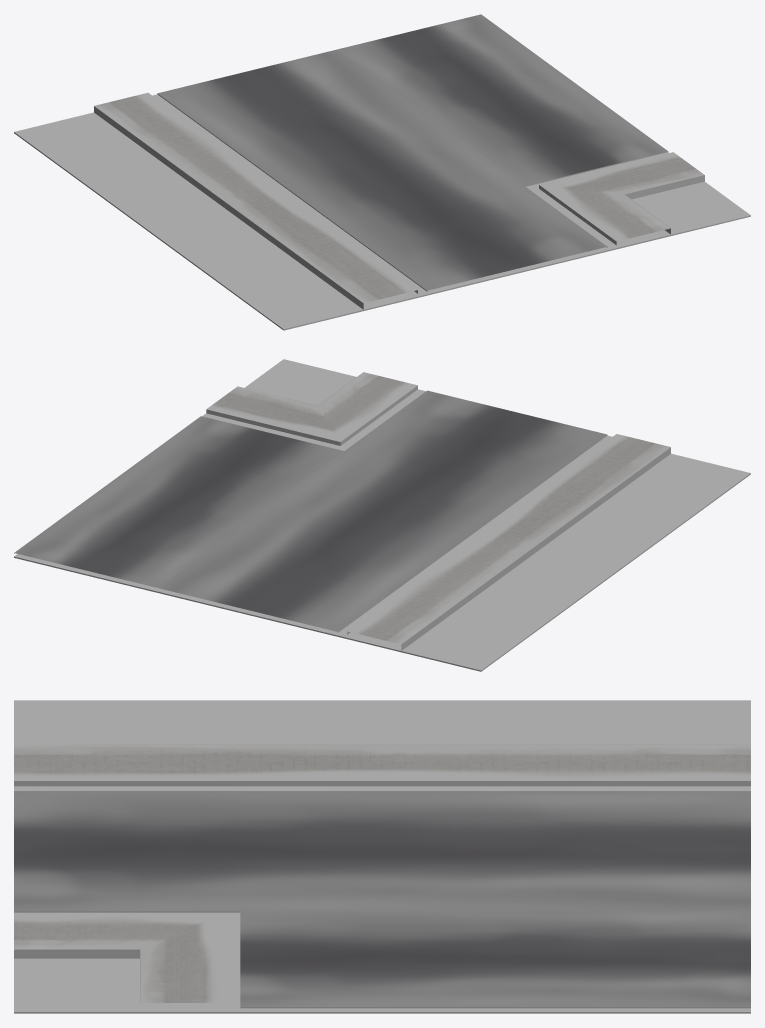
File: Single_Entry_CarPark.fbx
The picture shows the model from 3 angles, top to bottom: view 1: azimuth 30°, elevation 25°; view 2: azimuth 150°, elevation 25°; view 3: azimuth 270°, elevation 25°; orthographic projection. The views are drawn at different scales.
Visible parts, largest first — view 1: Road_10X48, Road_10X44; view 2: Road_10X48, Road_10X44; view 3: Road_10X48, Road_10X44.
Boxes of the visible parts, x1,y1,x2,y2 form: Road_10X48: (94,14,704,309); Road_10X44: (14,112,750,330); Road_10X48: (14,372,670,650); Road_10X44: (14,359,750,671); Road_10X48: (14,744,750,1008); Road_10X44: (14,700,750,1013).
Bounding box in the file's own units: 1000 × 15.99 × 1000.
